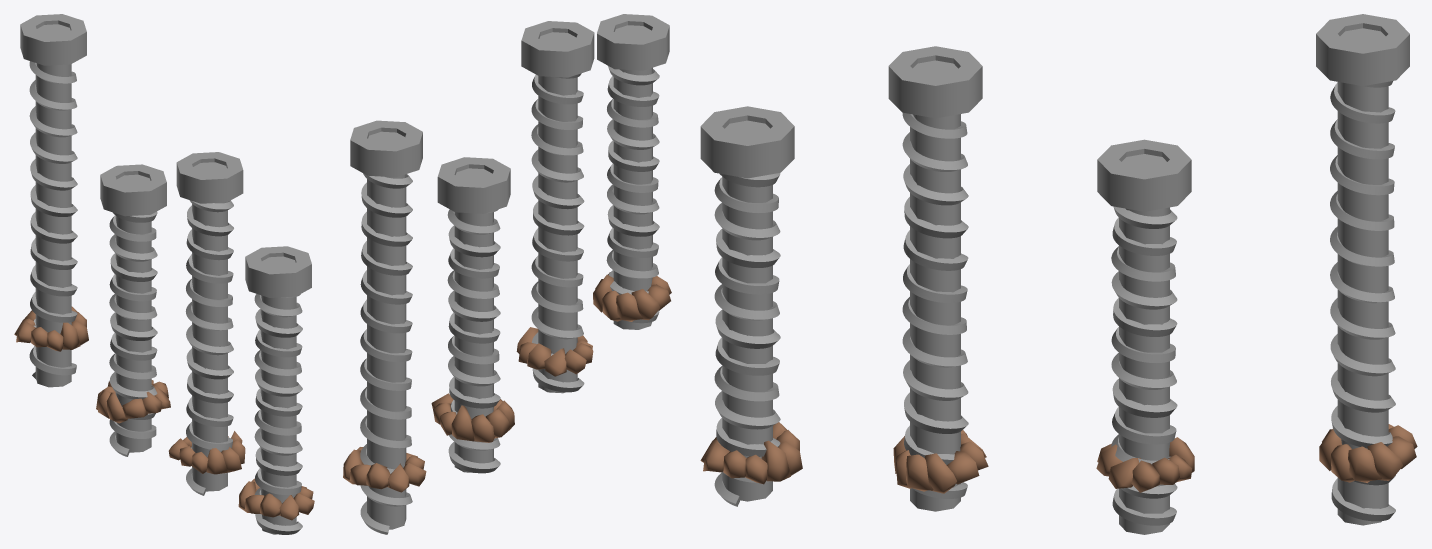
File: Screw fence.fbx
3 views of the same model, side by side, from view 1: azimuth 30°, elevation 25°; view 2: azimuth 150°, elevation 25°; view 3: azimuth 270°, elevation 25° (orthographic). The views are drawn at different scales.
Parts seen in each view (by area): view 1: ScrewBody_04, ScrewBody_02, ScrewBody_03, ScrewBody_01, ScrewSpiral_04, ScrewSpiral_02, ScrewSpiral_01, ScrewSpiral_03, ScrewRubble_014, ScrewRubble_027, ScrewRubble_09, ScrewRubble_034 (+1 smaller); view 2: ScrewBody_04, ScrewBody_02, ScrewBody_01, ScrewBody_03, ScrewSpiral_04, ScrewSpiral_02, ScrewSpiral_03, ScrewSpiral_01, ScrewRubble_024, ScrewRubble_06, ScrewRubble_07, ScrewRubble_025 (+7 smaller); view 3: ScrewBody_04, ScrewBody_02, ScrewBody_01, ScrewBody_03, ScrewSpiral_04, ScrewSpiral_01, ScrewSpiral_02, ScrewSpiral_03, ScrewRubble_036, ScrewRubble_017, ScrewRubble_037.
Boxes of the visible parts, box(x1,y1,x2,y2) form: ScrewBody_04: box(20, 14, 86, 387); ScrewBody_02: box(176, 152, 243, 491); ScrewBody_03: box(100, 164, 166, 452); ScrewBody_01: box(245, 246, 311, 534); ScrewSpiral_04: box(29, 61, 77, 378); ScrewSpiral_02: box(185, 200, 233, 495); ScrewSpiral_01: box(254, 294, 302, 534); ScrewSpiral_03: box(109, 211, 157, 456); ScrewRubble_014: box(206, 448, 227, 474); ScrewRubble_027: box(106, 392, 127, 423); ScrewRubble_09: box(260, 493, 281, 517); ScrewRubble_034: box(60, 322, 80, 349); ScrewBody_04: box(350, 120, 422, 529); ScrewBody_02: box(521, 21, 594, 393); ScrewBody_01: box(597, 14, 669, 329); ScrewBody_03: box(437, 157, 510, 472); ScrewSpiral_04: box(360, 173, 412, 534); ScrewSpiral_02: box(531, 73, 584, 392); ScrewSpiral_03: box(447, 209, 500, 473); ScrewSpiral_01: box(606, 66, 659, 323); ScrewRubble_024: box(451, 405, 474, 441); ScrewRubble_06: box(616, 292, 643, 321); ScrewRubble_07: box(631, 289, 659, 320); ScrewRubble_025: box(471, 414, 495, 442); ScrewBody_04: box(1316, 14, 1409, 525); ScrewBody_02: box(888, 46, 982, 511); ScrewBody_01: box(700, 106, 794, 501); ScrewBody_03: box(1097, 139, 1191, 534); ScrewSpiral_04: box(1330, 81, 1395, 521); ScrewSpiral_01: box(714, 173, 780, 506); ScrewSpiral_02: box(902, 112, 968, 498); ScrewSpiral_03: box(1111, 206, 1177, 525); ScrewRubble_036: box(1348, 446, 1381, 482); ScrewRubble_017: box(925, 453, 956, 493); ScrewRubble_037: box(1367, 442, 1402, 480).
Bounding box in the file's own units: 0.8779 × 4.3 × 5.64.
Materials: 1 (1 with a texture image).
